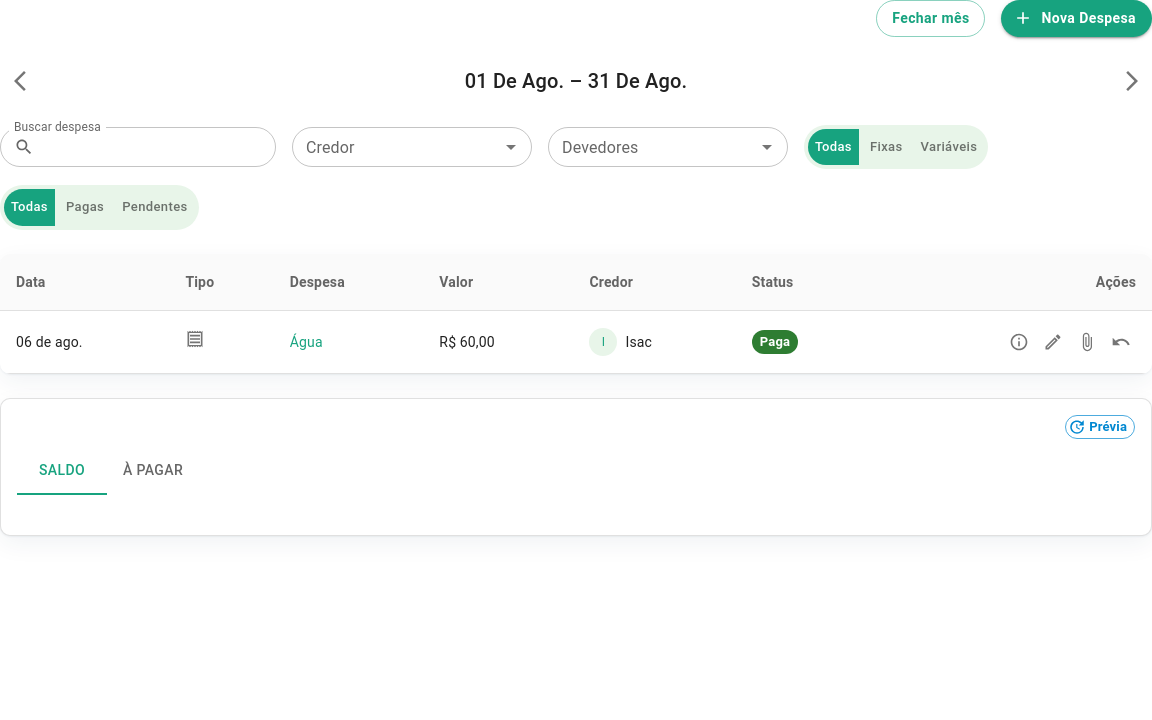
Test case: ExpenseManager - listagem em cards › descrição do pagamento no modal de detalhes › renders markup in the note as plain text
The image size is (1152, 720).
Check: the link "Água" is shown, box [290,334,323,350]
Click the button named "Ver detalhes" at (1019, 342), box [1004,327,1034,357]
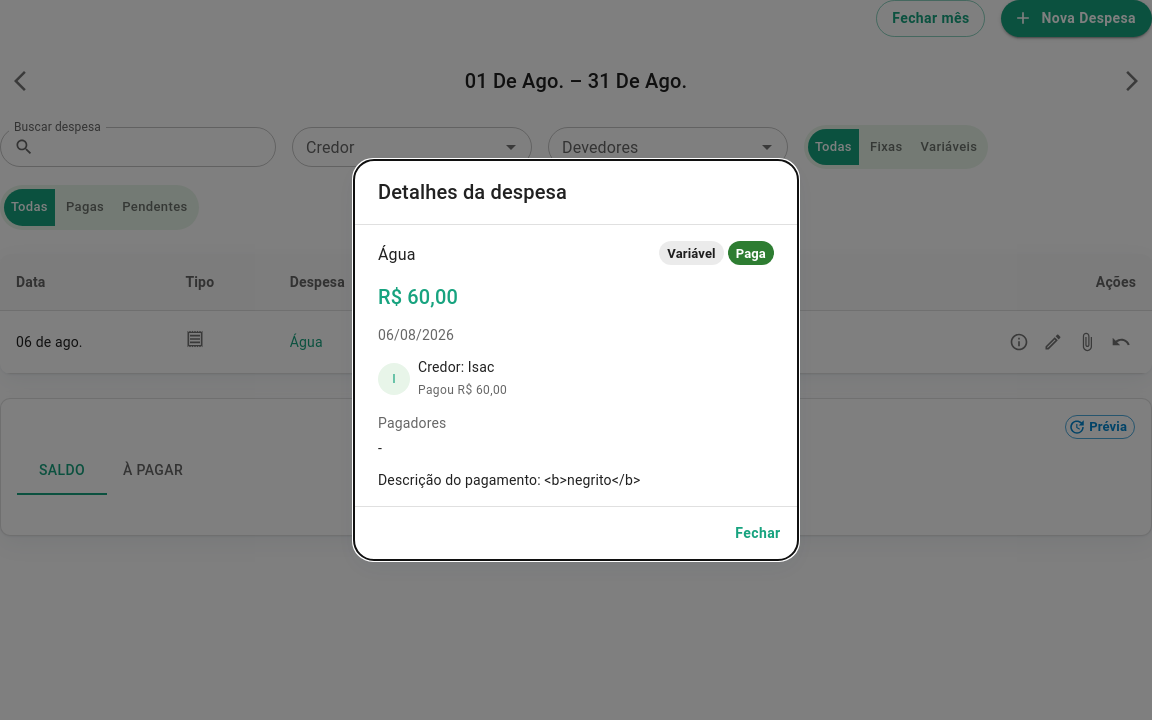
Check: the text "Descrição do pagamento: <b>negrito</b>" is shown, box [378,472,640,488]
